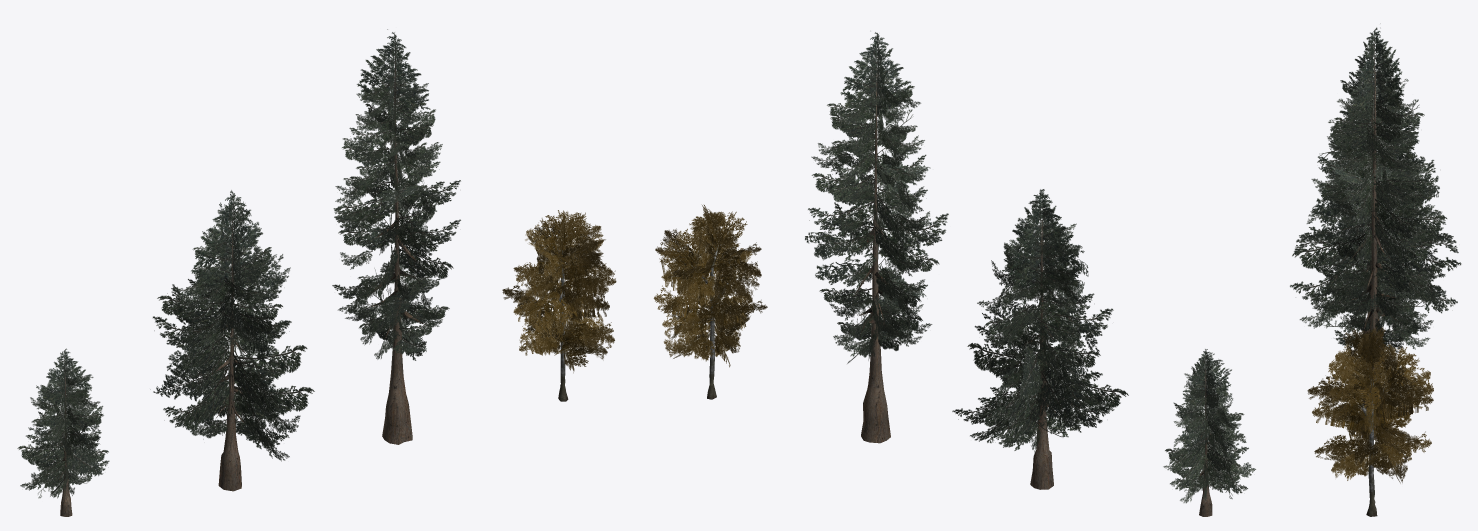
The model's file is low_poly_forest_tree_pack.glb.
The picture shows the model from 3 angles, left to right: view 1: azimuth 30°, elevation 25°; view 2: azimuth 150°, elevation 25°; view 3: azimuth 270°, elevation 25°; orthographic projection.
Visible parts, largest first — view 1: Tree_Branches_01, Tree_Branches_01.002, Tree_Branches_02, Tree_Branches_02_Tree_Branches_02_0__far, Tree_Branches_01.001, Tree_Branches_01_Tree_Branches_01_0__far, Tree_Branches_01.002_Tree_Branches_01_0__far, Tree_Trunk_01.001, Tree_Branches_01.001_Tree_Branches_01_0__far, Tree_Trunk_01.002; view 2: Tree_Branches_01, Tree_Branches_01.002, Tree_Branches_02, Tree_Branches_01.001, Tree_Branches_02_Tree_Branches_02_0__far, Tree_Branches_01_Tree_Branches_01_0__far, Tree_Branches_01.002_Tree_Branches_01_0__far, Tree_Trunk_01.001, Tree_Branches_01.001_Tree_Branches_01_0__far, Tree_Trunk_01.002; view 3: Tree_Branches_01, Tree_Branches_01.002, Tree_Branches_02, Tree_Branches_02_Tree_Branches_02_0__far, Tree_Branches_01_Tree_Branches_01_0__far, Tree_Trunk_01.001, Tree_Branches_01.002_Tree_Branches_01_0__far, Tree_Trunk_02.
Part boxes in pixels (x1,y1,x2,y2): Tree_Branches_01: [332, 29, 460, 360]; Tree_Branches_01.002: [153, 190, 314, 461]; Tree_Branches_02: [503, 210, 616, 370]; Tree_Branches_02_Tree_Branches_02_0__far: [502, 211, 615, 370]; Tree_Branches_01.001: [17, 348, 109, 498]; Tree_Branches_01_Tree_Branches_01_0__far: [333, 32, 459, 360]; Tree_Branches_01.002_Tree_Branches_01_0__far: [155, 192, 313, 448]; Tree_Trunk_01.001: [368, 120, 424, 444]; Tree_Branches_01.001_Tree_Branches_01_0__far: [19, 349, 107, 497]; Tree_Trunk_01.002: [209, 221, 248, 491]; Tree_Branches_01: [805, 32, 948, 363]; Tree_Branches_01.002: [952, 189, 1128, 453]; Tree_Branches_02: [654, 205, 767, 365]; Tree_Branches_01.001: [1163, 349, 1255, 503]; Tree_Branches_02_Tree_Branches_02_0__far: [655, 205, 766, 367]; Tree_Branches_01_Tree_Branches_01_0__far: [805, 33, 945, 353]; Tree_Branches_01.002_Tree_Branches_01_0__far: [957, 189, 1125, 449]; Tree_Trunk_01.001: [854, 67, 901, 443]; Tree_Branches_01.001_Tree_Branches_01_0__far: [1165, 349, 1255, 499]; Tree_Trunk_01.002: [1027, 221, 1059, 489]; Tree_Branches_01: [1318, 27, 1434, 352]; Tree_Branches_01.002: [1290, 73, 1461, 333]; Tree_Branches_02: [1307, 326, 1433, 482]; Tree_Branches_02_Tree_Branches_02_0__far: [1308, 328, 1433, 483]; Tree_Branches_01_Tree_Branches_01_0__far: [1320, 28, 1433, 345]; Tree_Trunk_01.001: [1351, 71, 1397, 439]; Tree_Branches_01.002_Tree_Branches_01_0__far: [1290, 112, 1458, 332]; Tree_Trunk_02: [1360, 362, 1398, 516].
Size of the model in its own units: 38.72 by 25.87 by 10.07.
Materials: 4 (4 with a texture image).
